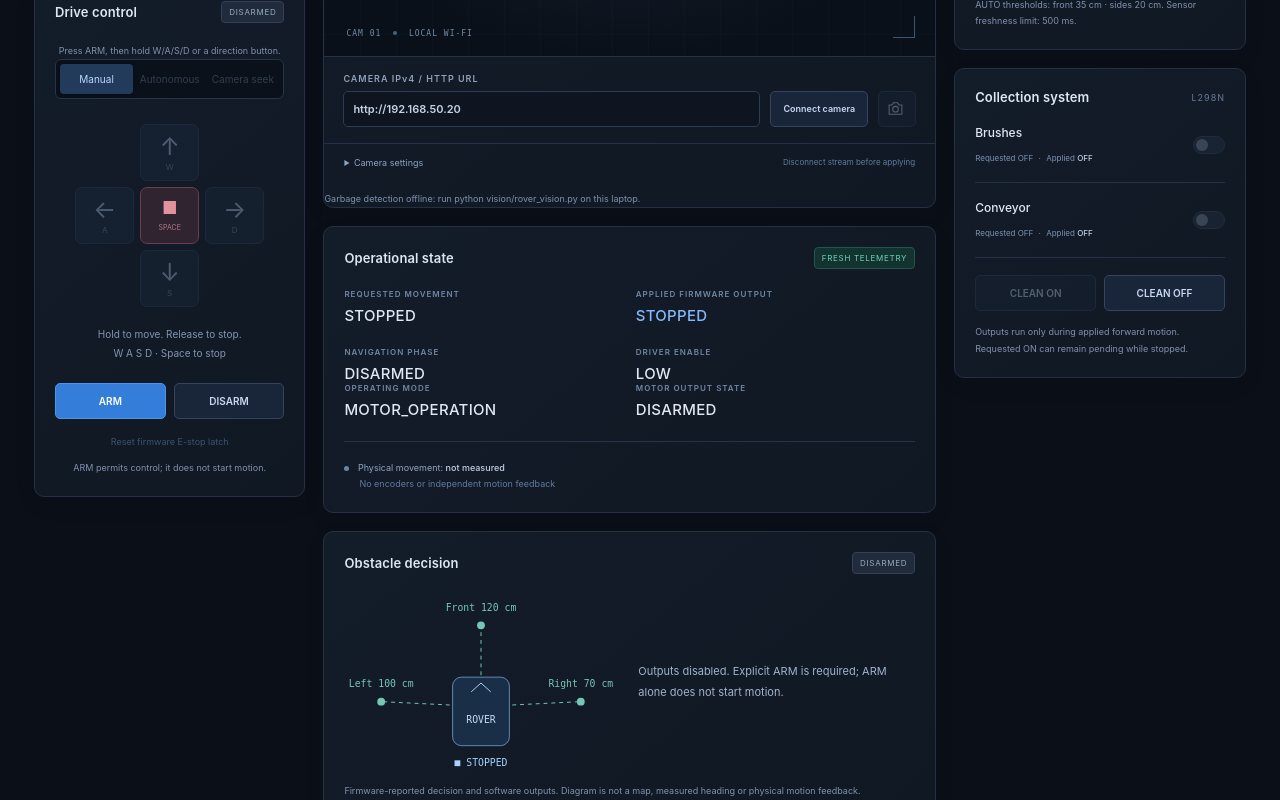
Test: released MOTOR_OPERATION supports software arming/movement with raw GPIO27 LOW
(page scrolled)
Click the button "ARM" at (110, 401), box [55,383,166,419]
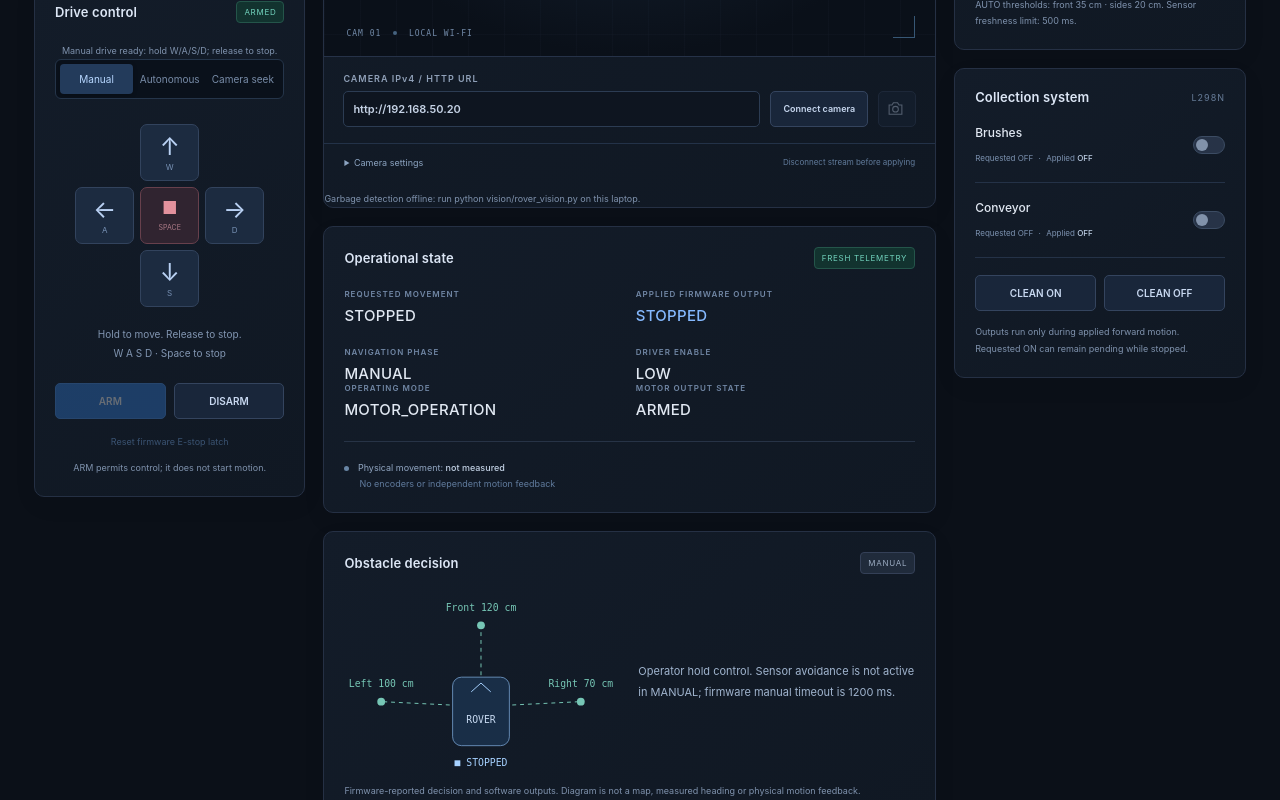
Press w
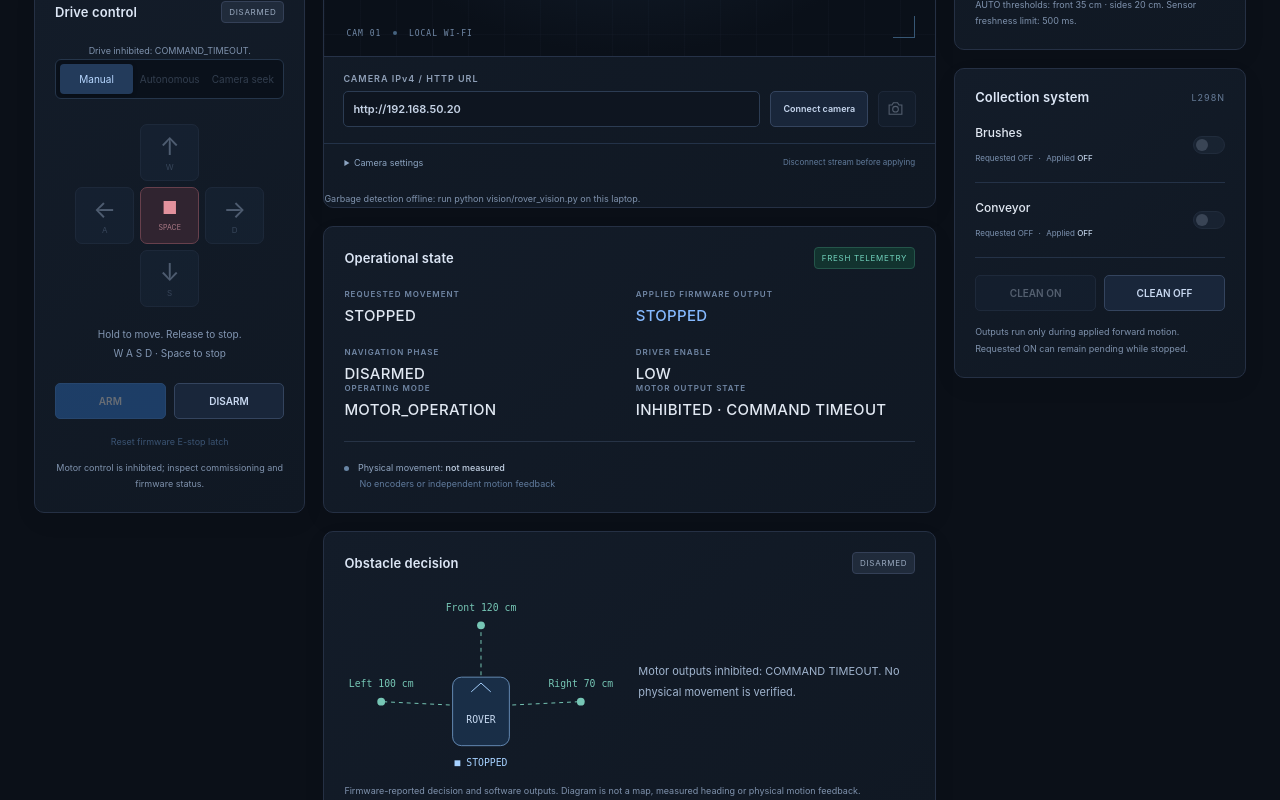
Expected: the text "COMMANDED ACTIVE" is shown, [636,400,886,419]
Expected: the button named "Forward" is disabled, [140,124,199,181]
